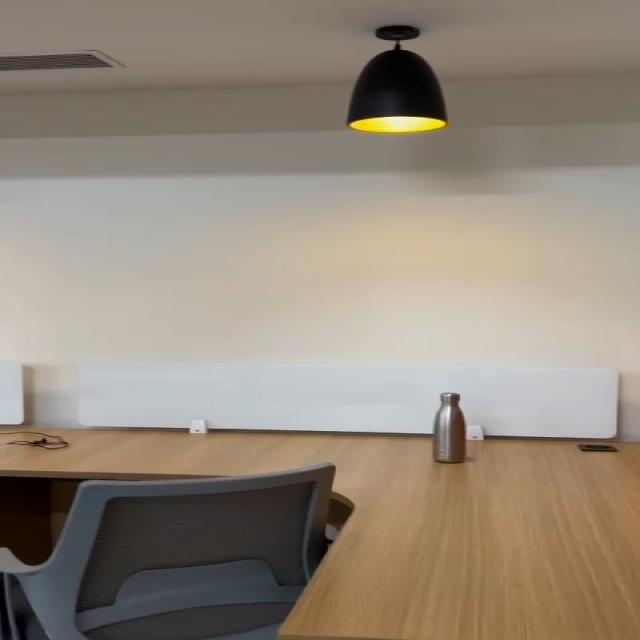furniture: (0, 421, 347, 640)
wall: (0, 2, 640, 349)
